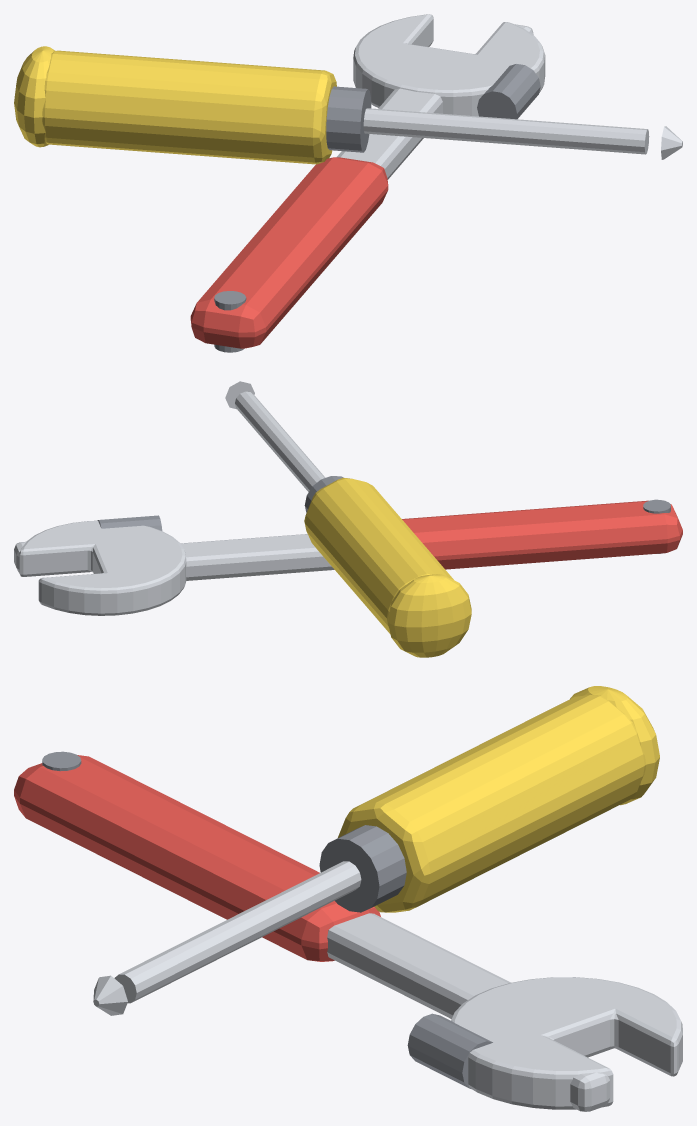
File: ITEM_RepairKit.fbx
3 views of the same model, one above another, from view 1: azimuth 30°, elevation 25°; view 2: azimuth 150°, elevation 25°; view 3: azimuth 270°, elevation 25° (orthographic). The views are drawn at different scales.
Parts seen in each view (by area): view 1: RK_S_Handle, RK_W_Grip, RK_W_Head, RK_S_Shaft, RK_W_Handle, RK_S_Cap, RK_S_Ferrule, RK_W_Thumbscrew, RK_W_HangHole; view 2: RK_W_Grip, RK_W_Head, RK_S_Handle, RK_S_Cap, RK_W_Handle, RK_S_Shaft, RK_W_Thumbscrew; view 3: RK_S_Handle, RK_W_Grip, RK_W_Head, RK_W_Handle, RK_S_Shaft, RK_S_Ferrule, RK_W_Thumbscrew, RK_S_Cap, RK_W_MovingJaw, RK_S_Tip, RK_W_HangHole.
Boxes of the visible parts, x1,y1,x2,y2 form: RK_S_Handle: (42,50,336,164); RK_W_Grip: (190,157,388,348); RK_W_Head: (353,14,545,116); RK_S_Shaft: (363,108,649,154); RK_W_Handle: (337,88,442,179); RK_S_Cap: (14,46,55,147); RK_S_Ferrule: (326,86,371,152); RK_W_Thumbscrew: (477,64,540,119); RK_W_HangHole: (214,291,246,352); RK_W_Grip: (402,500,682,569); RK_W_Head: (19,520,186,615); RK_S_Handle: (304,477,453,634); RK_S_Cap: (388,574,471,657); RK_W_Handle: (180,534,334,580); RK_S_Shaft: (235,391,325,491); RK_W_Thumbscrew: (97,515,162,530); RK_S_Handle: (338,695,645,912); RK_W_Grip: (14,755,380,961); RK_W_Head: (451,977,682,1109); RK_W_Handle: (327,913,510,1018); RK_S_Shaft: (114,861,361,1003); RK_S_Ferrule: (319,825,406,912); RK_W_Thumbscrew: (407,1013,492,1088); RK_S_Cap: (570,686,659,805); RK_W_MovingJaw: (570,1072,610,1111); RK_S_Tip: (93,975,127,1015); RK_W_HangHole: (42,751,81,771).
Size of the model in its own units: 0.5226 by 0.1122 by 0.4504.
